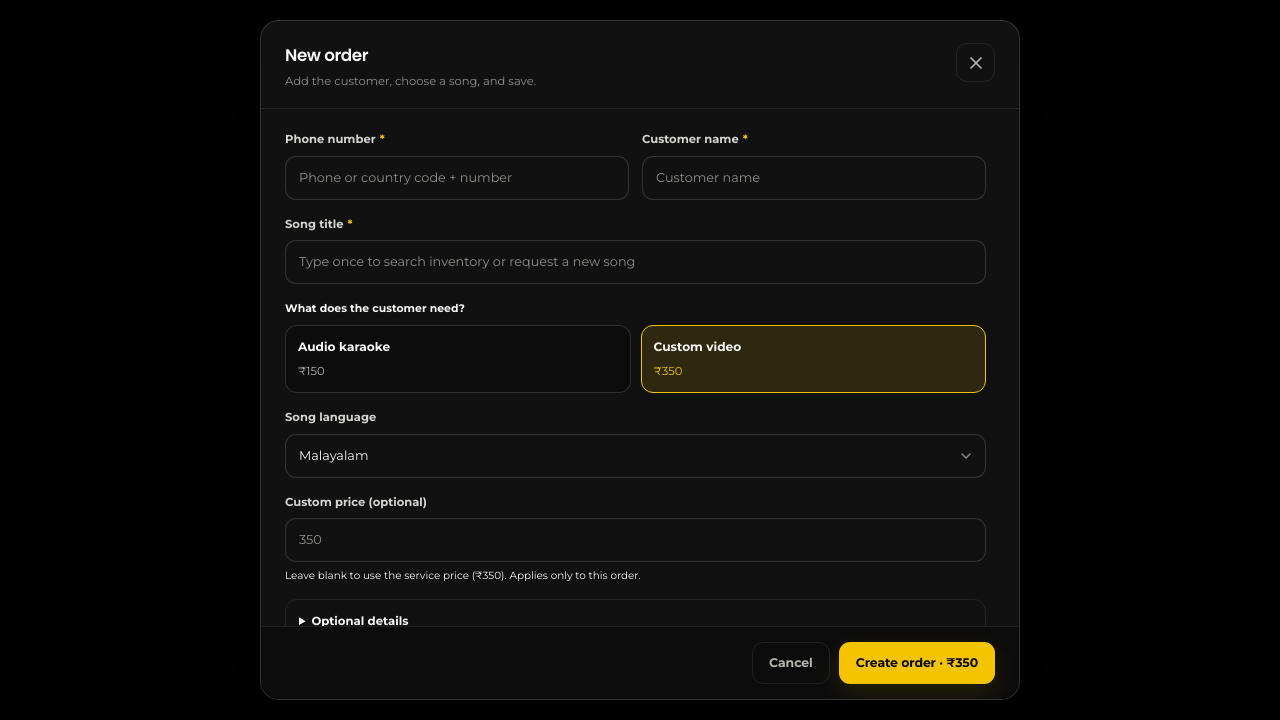
quick order entry › rejects invalid custom price -1 before saving
In the field labelled "Phone number*": (457,178) [285, 156, 629, 200], type "+968 95171126"
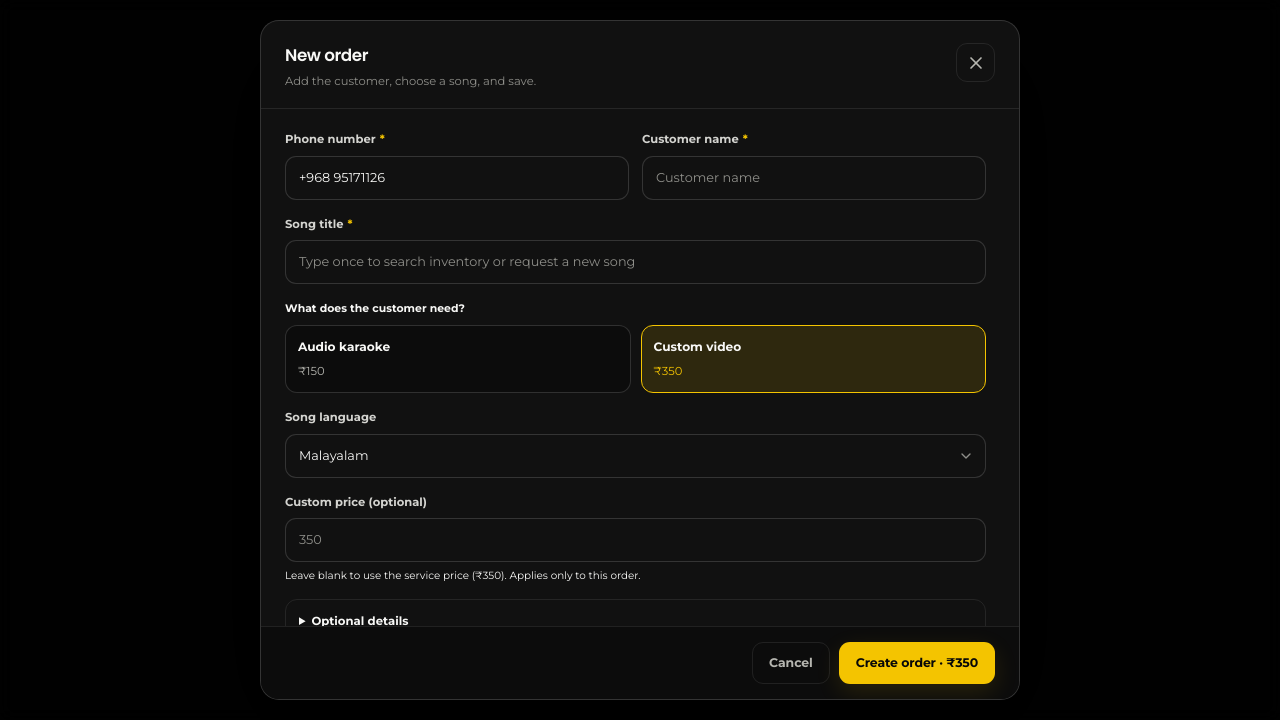
In the field labelled "Customer name*": (814,178) [642, 156, 986, 200], type "New Customer"
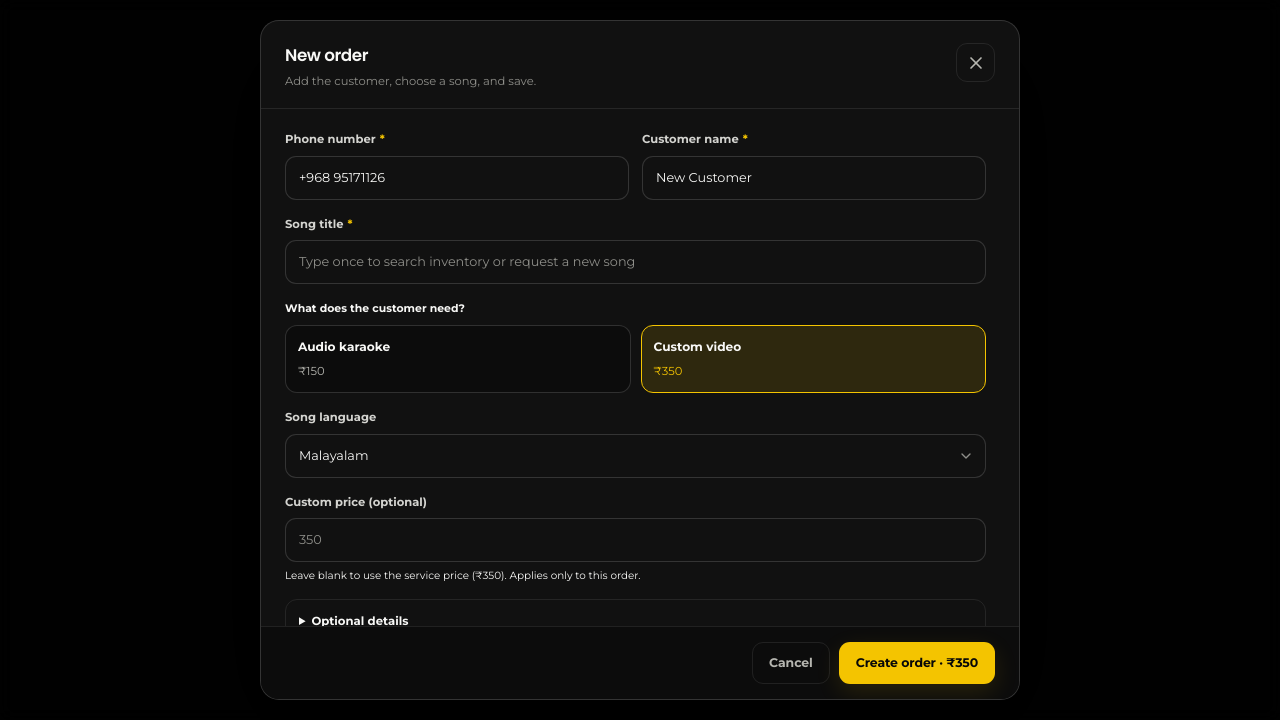
In the field labelled "Song title*": (636,262) [285, 240, 986, 284], type "New song"
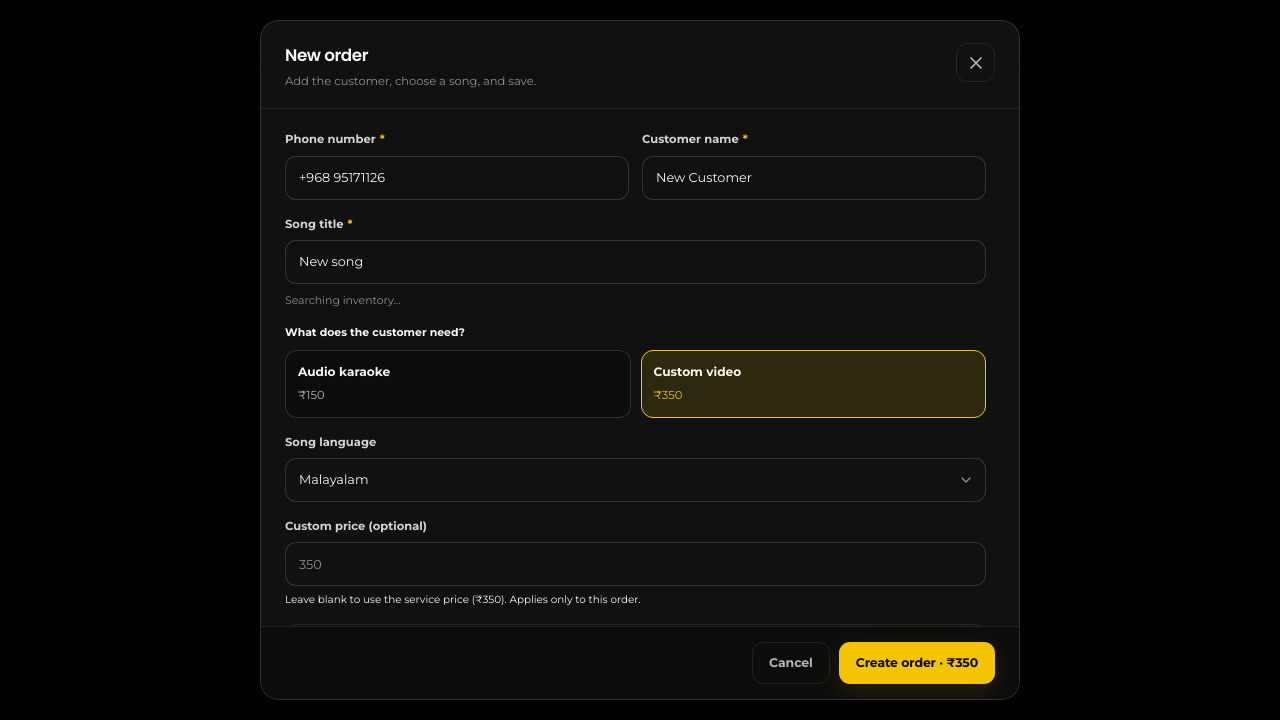
In the number field labelled "Custom price": (636,564) [285, 542, 986, 586], type "-1"
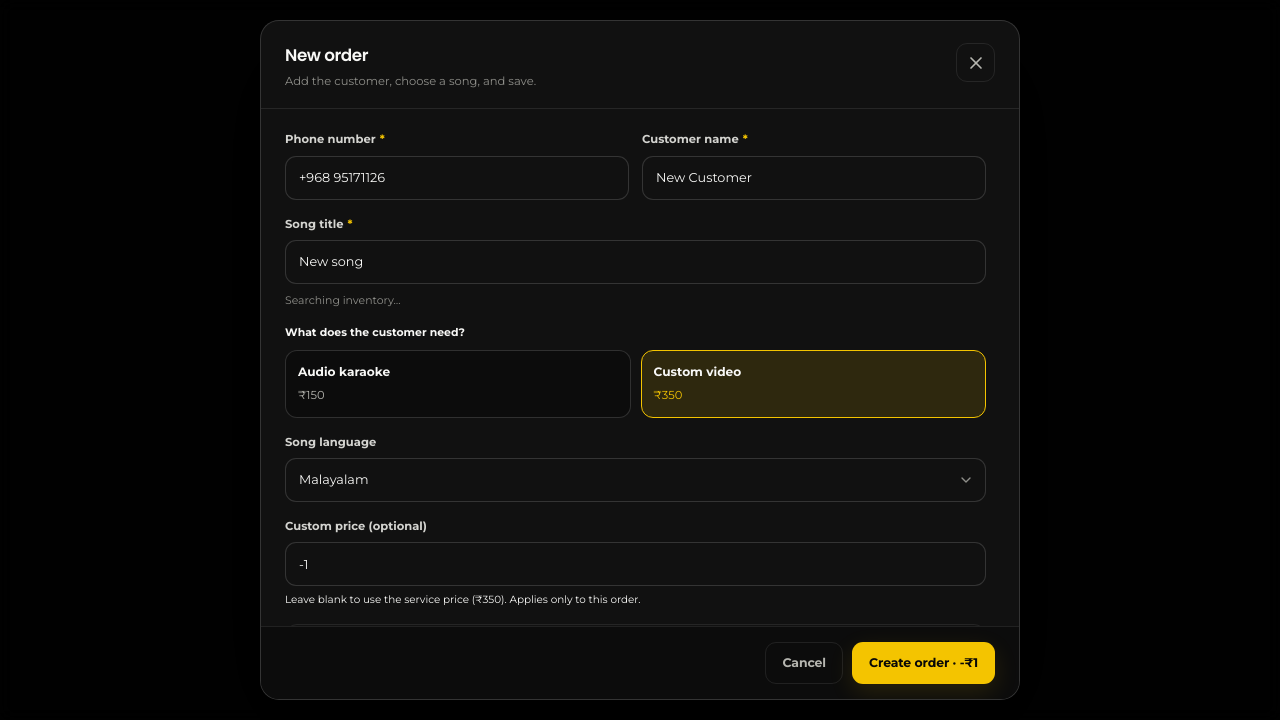
Submit the form labelled "Song title", box [285, 132, 986, 690]
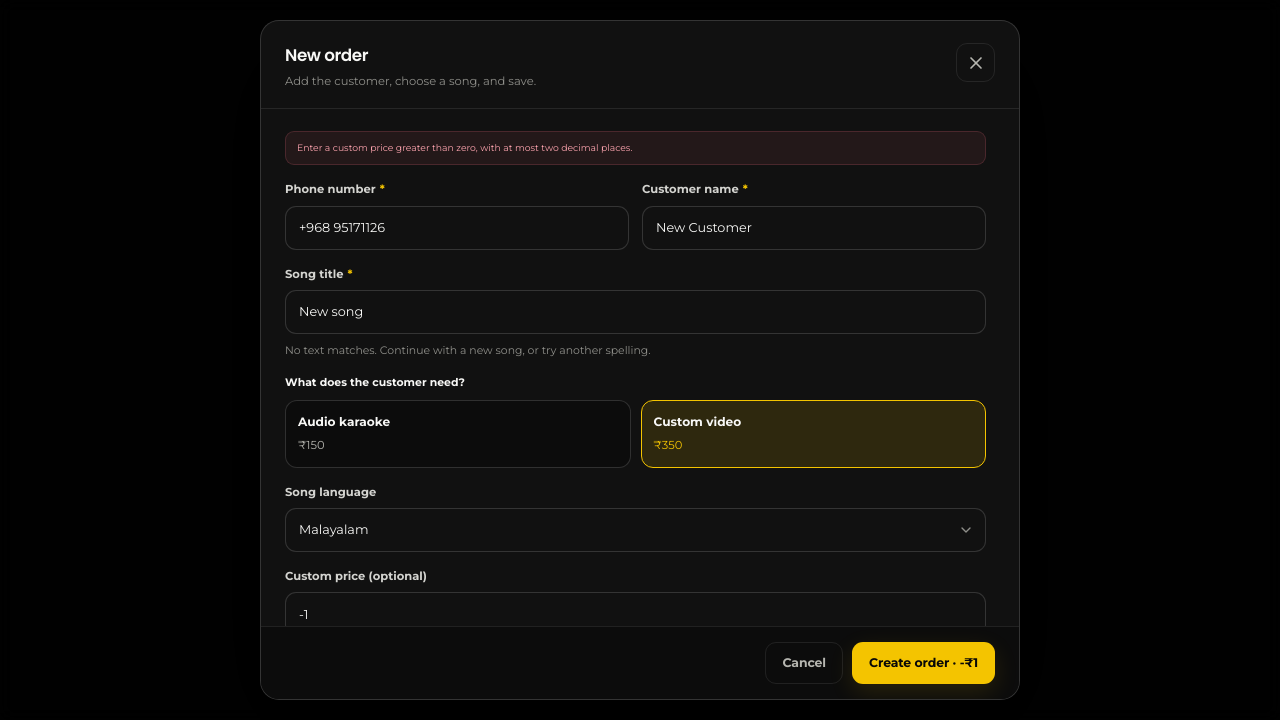
Expected: the text "Enter a custom price greater than zero, with at most two decimal places." is shown, [285, 132, 986, 165]
